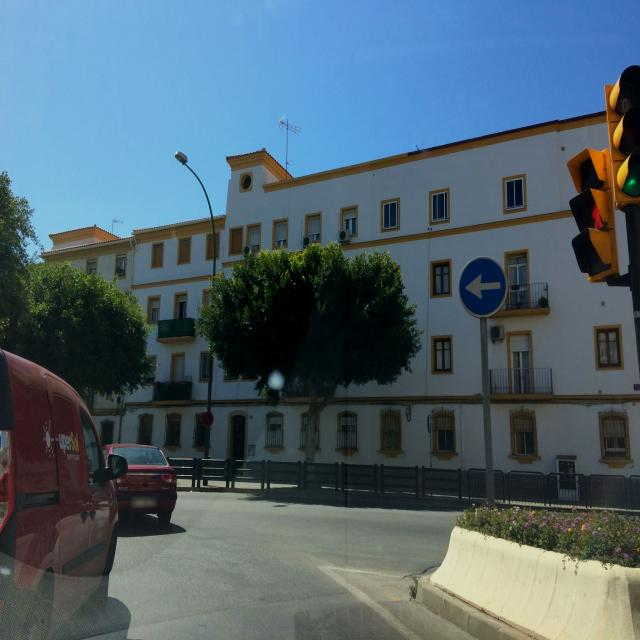car: (0, 342, 120, 640), (101, 443, 178, 525)
